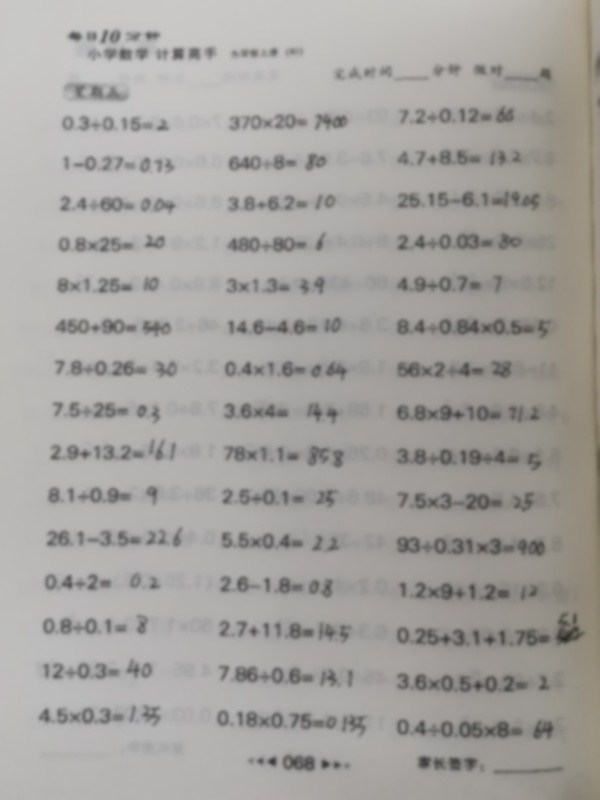equation: (394, 612, 590, 652), (213, 709, 369, 738), (40, 567, 174, 599), (393, 715, 557, 741), (393, 313, 554, 339), (219, 397, 349, 427), (394, 186, 542, 212), (393, 671, 553, 695), (393, 445, 544, 470), (395, 489, 538, 515), (393, 534, 547, 558), (44, 524, 186, 550), (48, 436, 179, 464), (216, 617, 354, 643), (35, 700, 163, 728), (394, 402, 543, 426), (215, 663, 355, 688), (395, 579, 540, 603), (219, 441, 346, 468), (221, 356, 351, 381), (219, 486, 341, 511), (39, 656, 155, 682), (395, 230, 526, 253), (395, 147, 525, 170), (217, 573, 335, 598), (394, 358, 516, 382), (40, 612, 152, 638), (226, 111, 352, 134), (218, 530, 342, 553), (51, 357, 180, 379), (45, 484, 163, 508), (52, 315, 174, 338), (394, 103, 516, 126), (49, 399, 164, 423), (224, 315, 344, 338), (59, 153, 177, 176), (394, 273, 506, 297), (57, 193, 179, 215), (224, 230, 329, 255), (55, 232, 168, 255), (224, 191, 338, 213), (224, 274, 328, 298), (225, 150, 329, 174), (58, 113, 171, 135), (53, 274, 162, 296)
